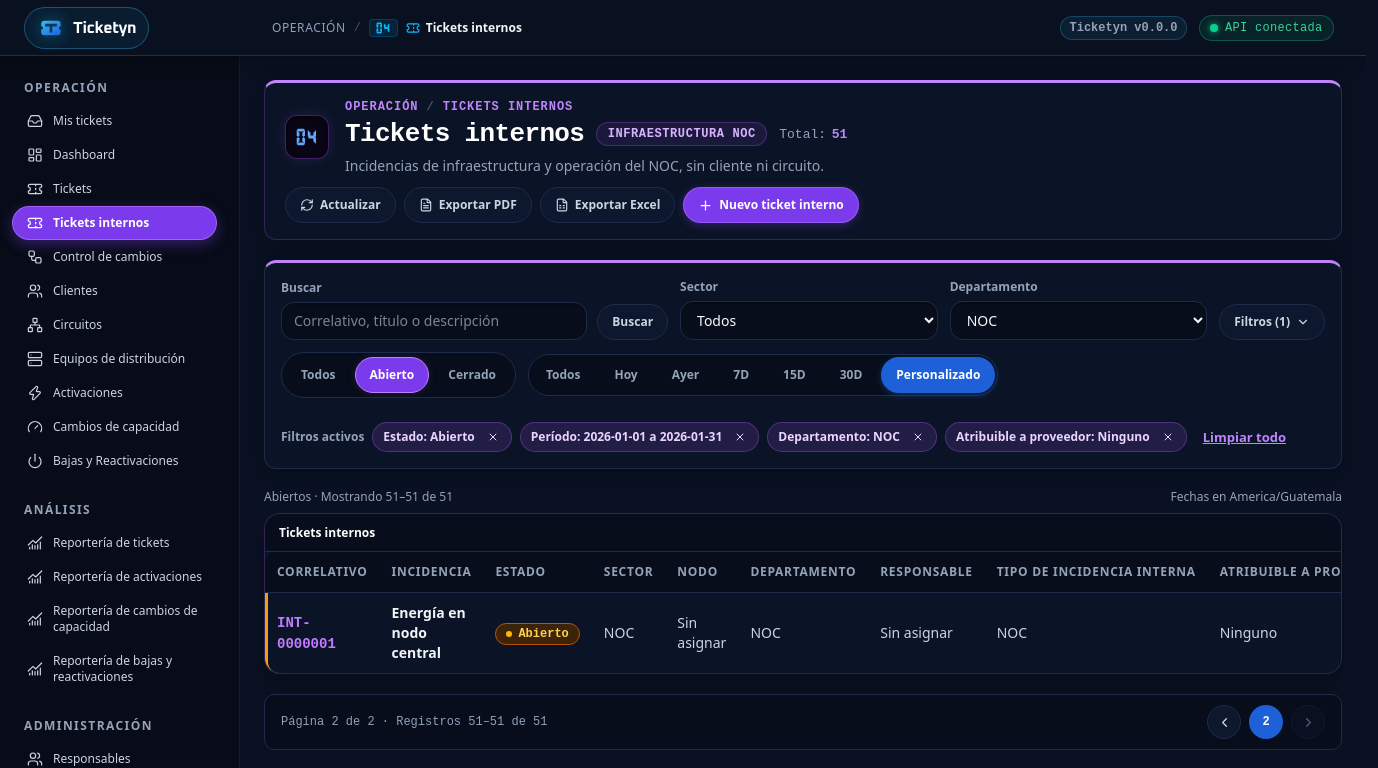
Test: barra de filtros de tickets internos › muestra chips de la URL, cuenta solo avanzados, quita uno a uno y limpia todo con el panel cerrado
Expected: the table "Tickets internos" is shown, [265,514,1342,673]
Expected: the text "Período: 2026-01-01 a 2026-01-31" is shown, [531,429,722,445]
Click the button named "Quitar filtro Atribuible a proveedor: Ninguno".
click(1168, 437)  # box [1156,425,1180,449]
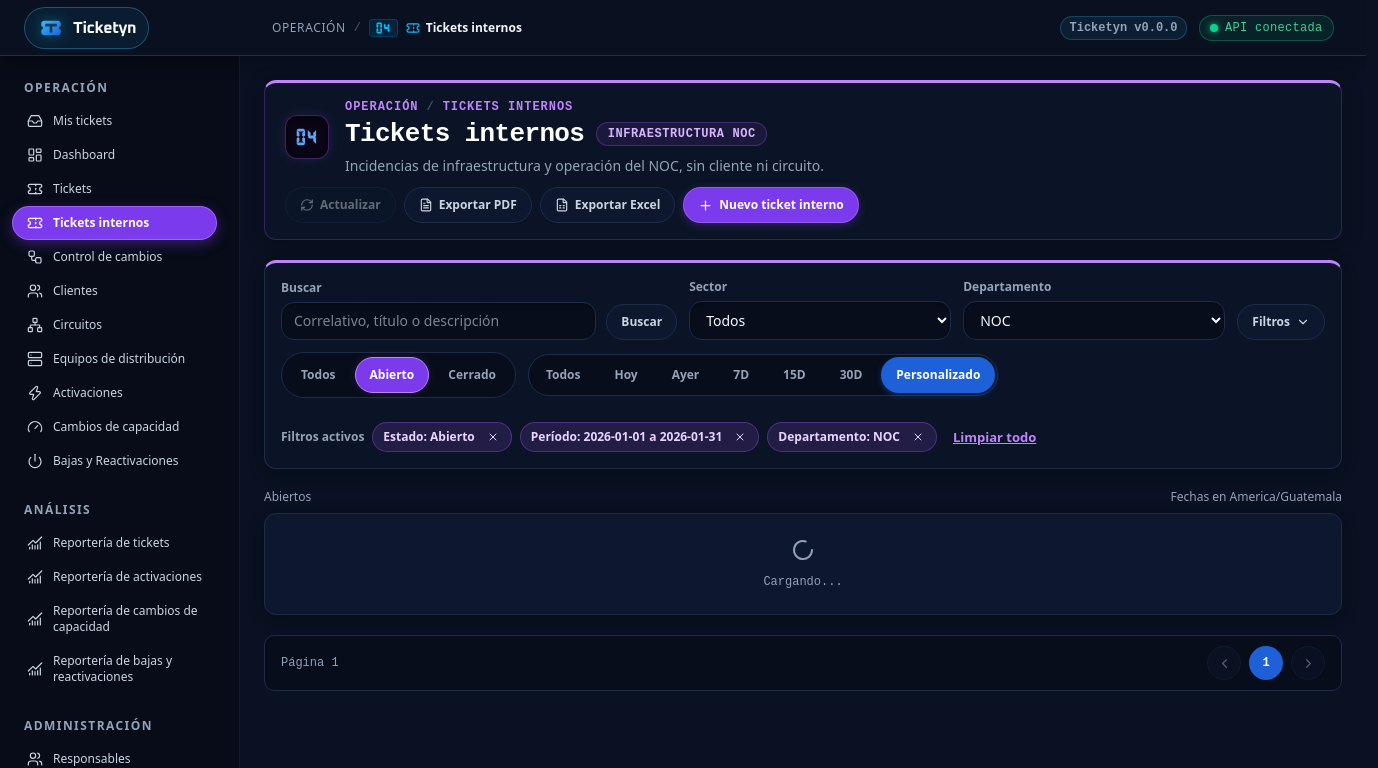
Click the button named "Quitar filtro Período: 2026-01-01 a 2026-01-31".
click(740, 437)  # box [728,425,752,449]
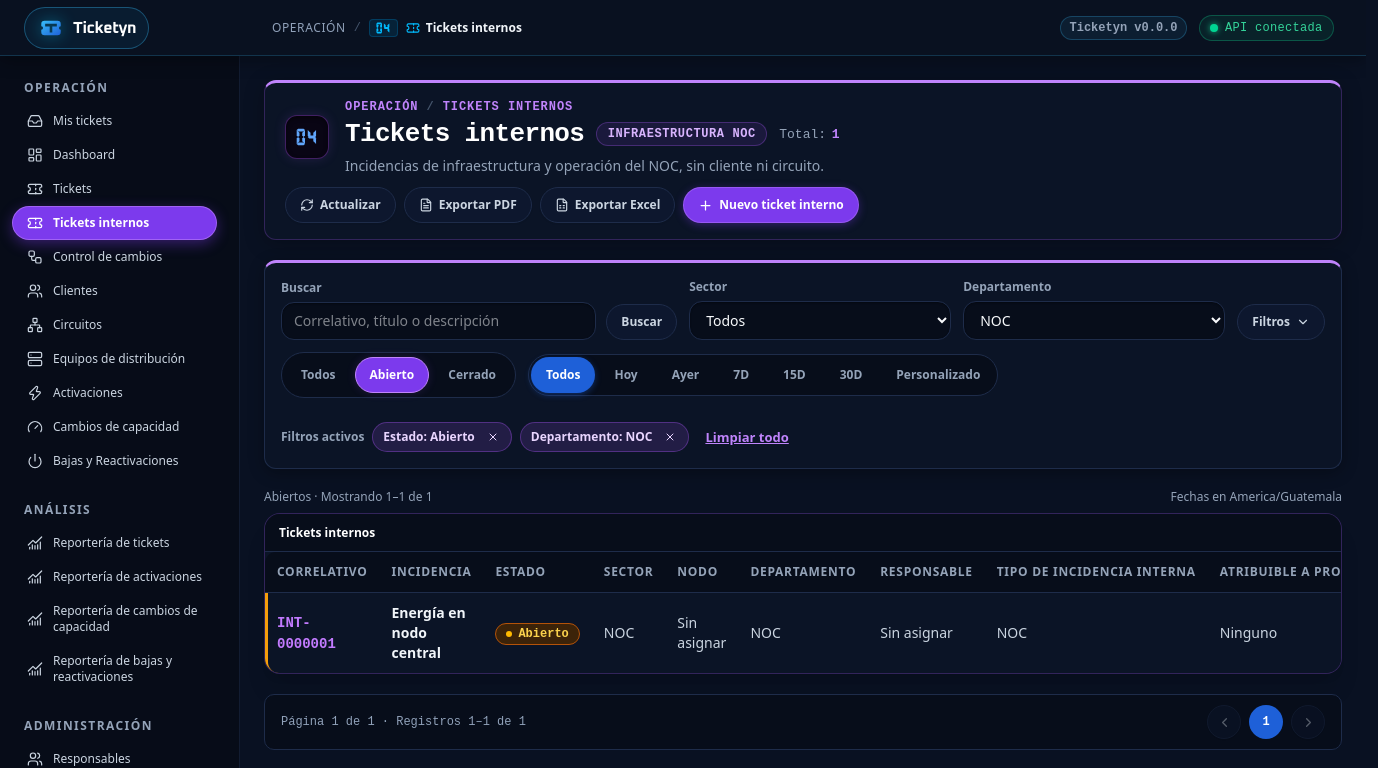
Click the button "Limpiar todo".
click(747, 437)  # box [697,423,797,451]
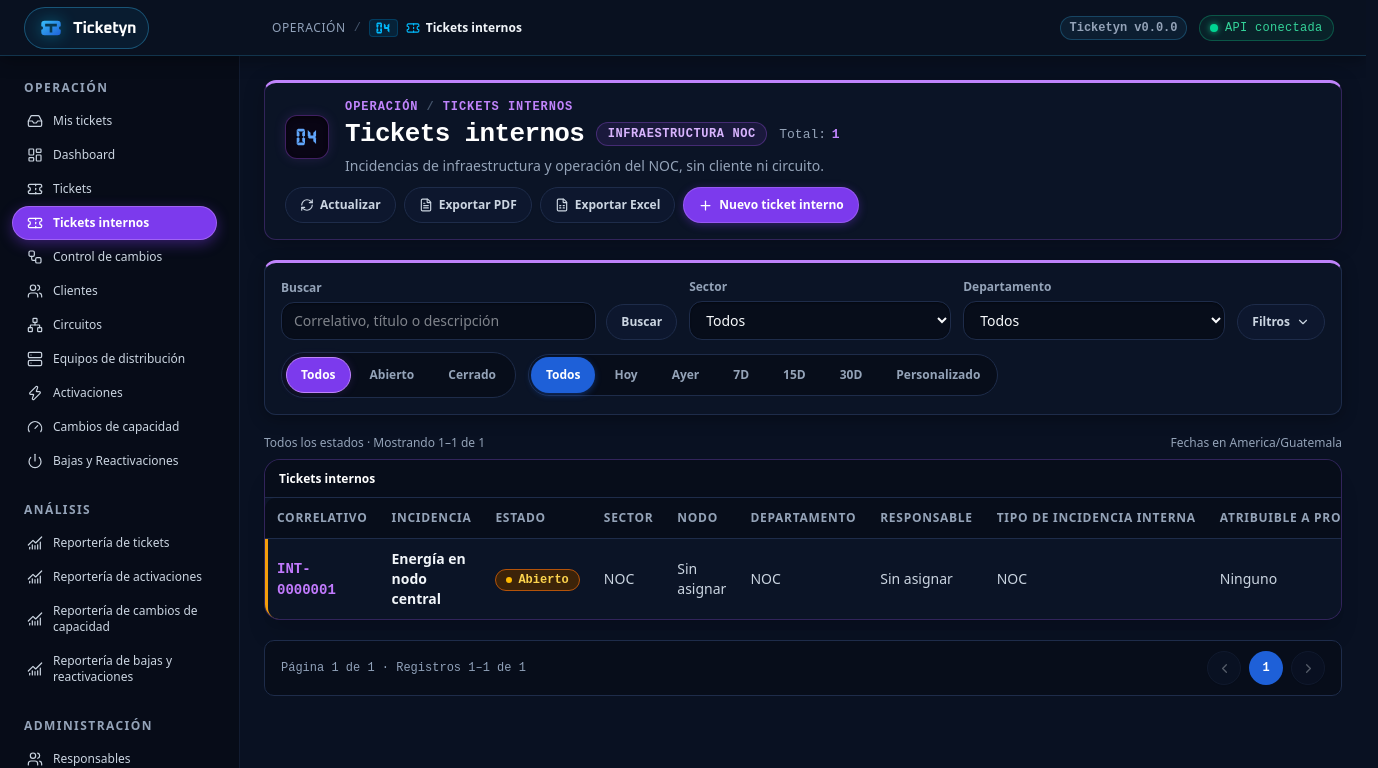
Expected: the 1st button "Todos" is shown, [286,357,350,393]
Expected: the button "Limpiar" is gone
